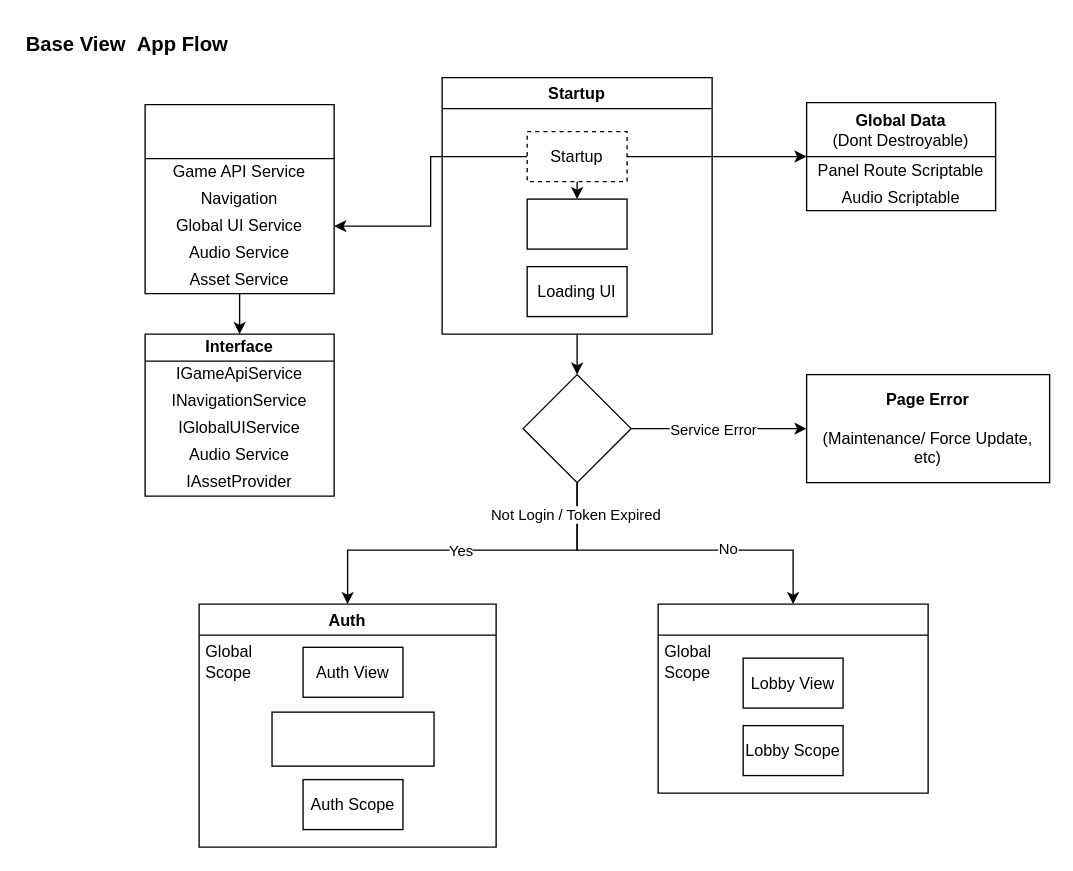
Some shapes in this 1073 by 871 pixel diagram are drawn without their labels. Each missing label, with the box of its shape:
Condition: (522, 373, 631, 483)
Entry Point: (526, 198, 627, 249)
Global Scope (Dont Destroyable): (144, 103, 334, 294)
Lobby Game: (657, 603, 928, 793)
Page Container login, register, etc: (271, 711, 434, 766)
